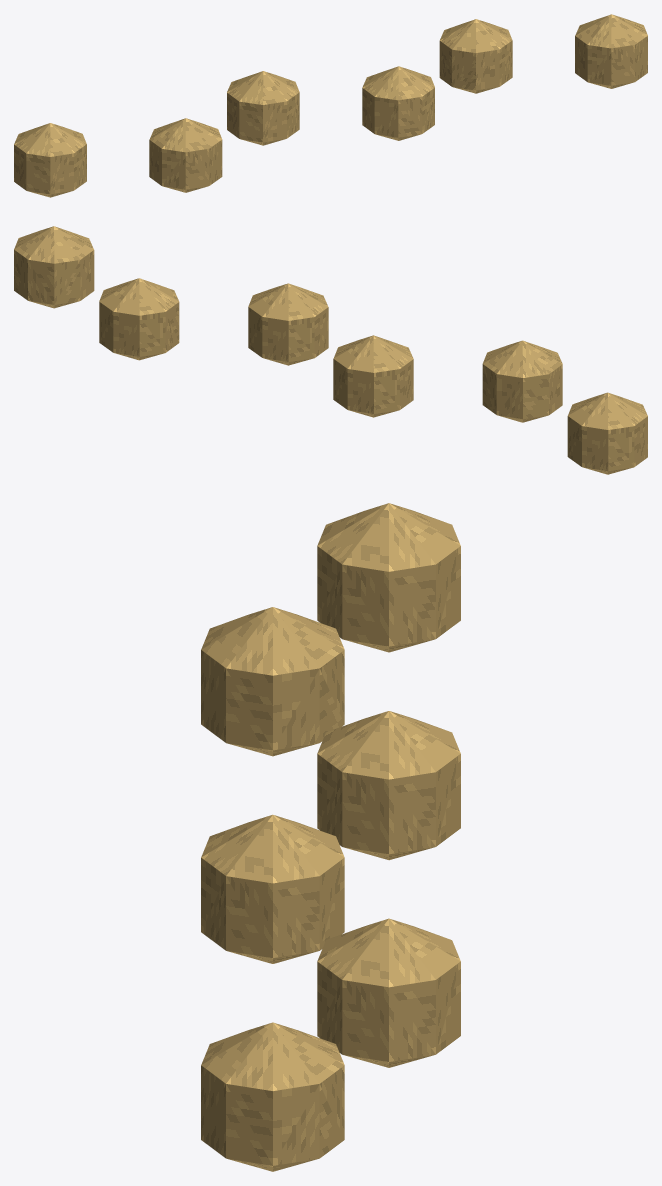
The model's file is gold_hair_beads.glb.
The picture shows the model from 3 angles, top to bottom: view 1: azimuth 30°, elevation 25°; view 2: azimuth 150°, elevation 25°; view 3: azimuth 270°, elevation 25°; orthographic projection. The views are drawn at different scales.
Visible parts, largest first — view 1: block_strung bead (×6); view 2: block_strung bead (×6); view 3: block_strung bead (×6).
Part boxes in pixels (x1,y1,x2,y2): block_strung bead (×6): [14, 14, 647, 197]; block_strung bead (×6): [14, 226, 647, 474]; block_strung bead (×6): [201, 503, 460, 1171].
Size of the model in its own units: 0.0813 by 0.00977 by 0.0154.
1 material, 1 textured.
